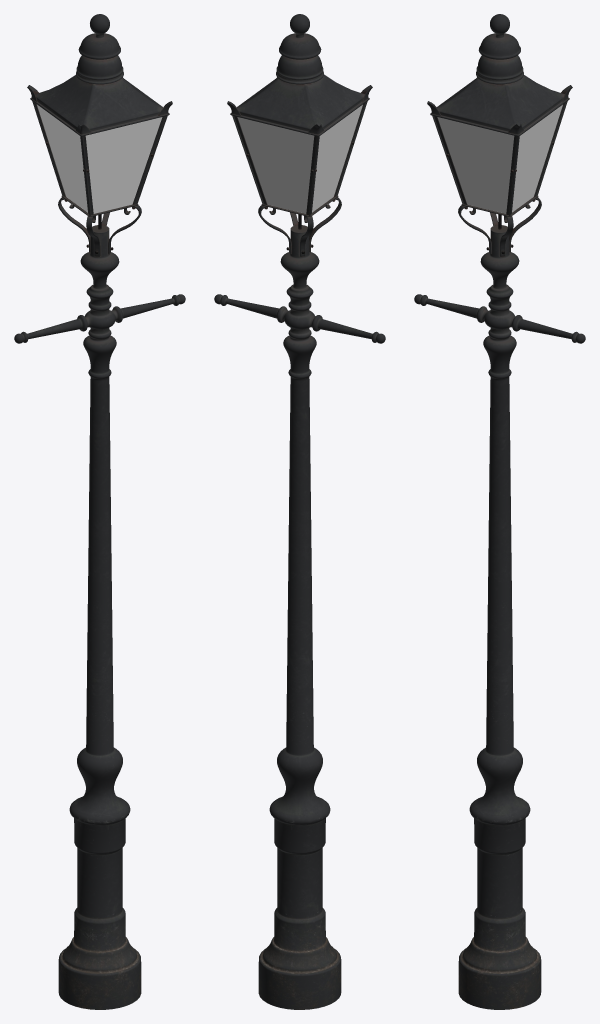
Rendered from lamp.glb.
The picture shows the model from 3 angles, left to right: view 1: azimuth 30°, elevation 25°; view 2: azimuth 150°, elevation 25°; view 3: azimuth 330°, elevation 25°; orthographic projection.
Visible parts, largest first — view 1: street_lamp, street_lamp_glass; view 2: street_lamp, street_lamp_glass; view 3: street_lamp, street_lamp_glass.
Part boxes in pixels (x1,y1,x2,y2): street_lamp: (14, 14, 185, 1009); street_lamp_glass: (37, 104, 162, 213); street_lamp: (214, 14, 385, 1009); street_lamp_glass: (237, 104, 362, 213); street_lamp: (414, 14, 585, 1009); street_lamp_glass: (437, 104, 562, 213).
Bounding box in the file's own units: 0.8434 × 4.64 × 0.4629.
3 materials, 1 textured.
